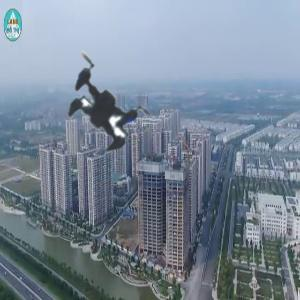drone: (22, 28, 188, 194)
